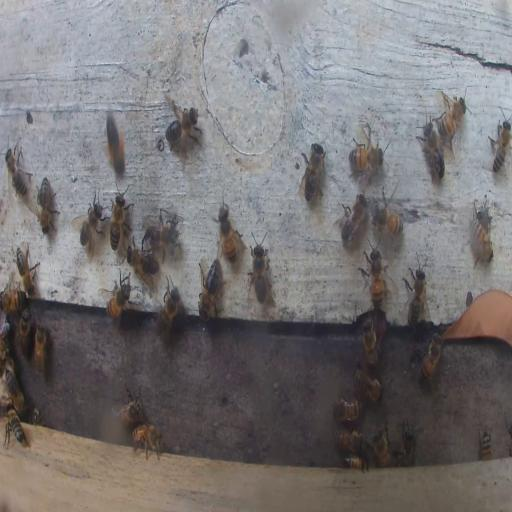nonpollenbee: (74, 189, 107, 256), (417, 112, 447, 182), (404, 256, 428, 330), (162, 102, 201, 146), (438, 91, 468, 147), (247, 232, 270, 302), (299, 143, 327, 200), (196, 260, 223, 318), (108, 184, 131, 252), (338, 193, 368, 245), (102, 272, 132, 322), (144, 211, 180, 252), (488, 114, 512, 174), (5, 146, 31, 200), (155, 280, 181, 334), (110, 388, 143, 429), (14, 243, 39, 297), (363, 244, 384, 308), (131, 420, 164, 460), (472, 199, 492, 265), (348, 137, 386, 171), (37, 177, 60, 233), (419, 332, 444, 382), (218, 201, 238, 263), (374, 192, 404, 233), (353, 368, 383, 404), (397, 416, 417, 466), (127, 243, 158, 275), (2, 368, 24, 412), (4, 411, 28, 449), (372, 425, 393, 468), (362, 317, 380, 367), (332, 429, 366, 454), (334, 396, 362, 421), (1, 285, 26, 313), (35, 320, 47, 375), (18, 306, 32, 352), (342, 454, 369, 470), (479, 429, 492, 460), (0, 334, 11, 366), (28, 406, 42, 426)
pollenbee: (104, 106, 127, 179)
